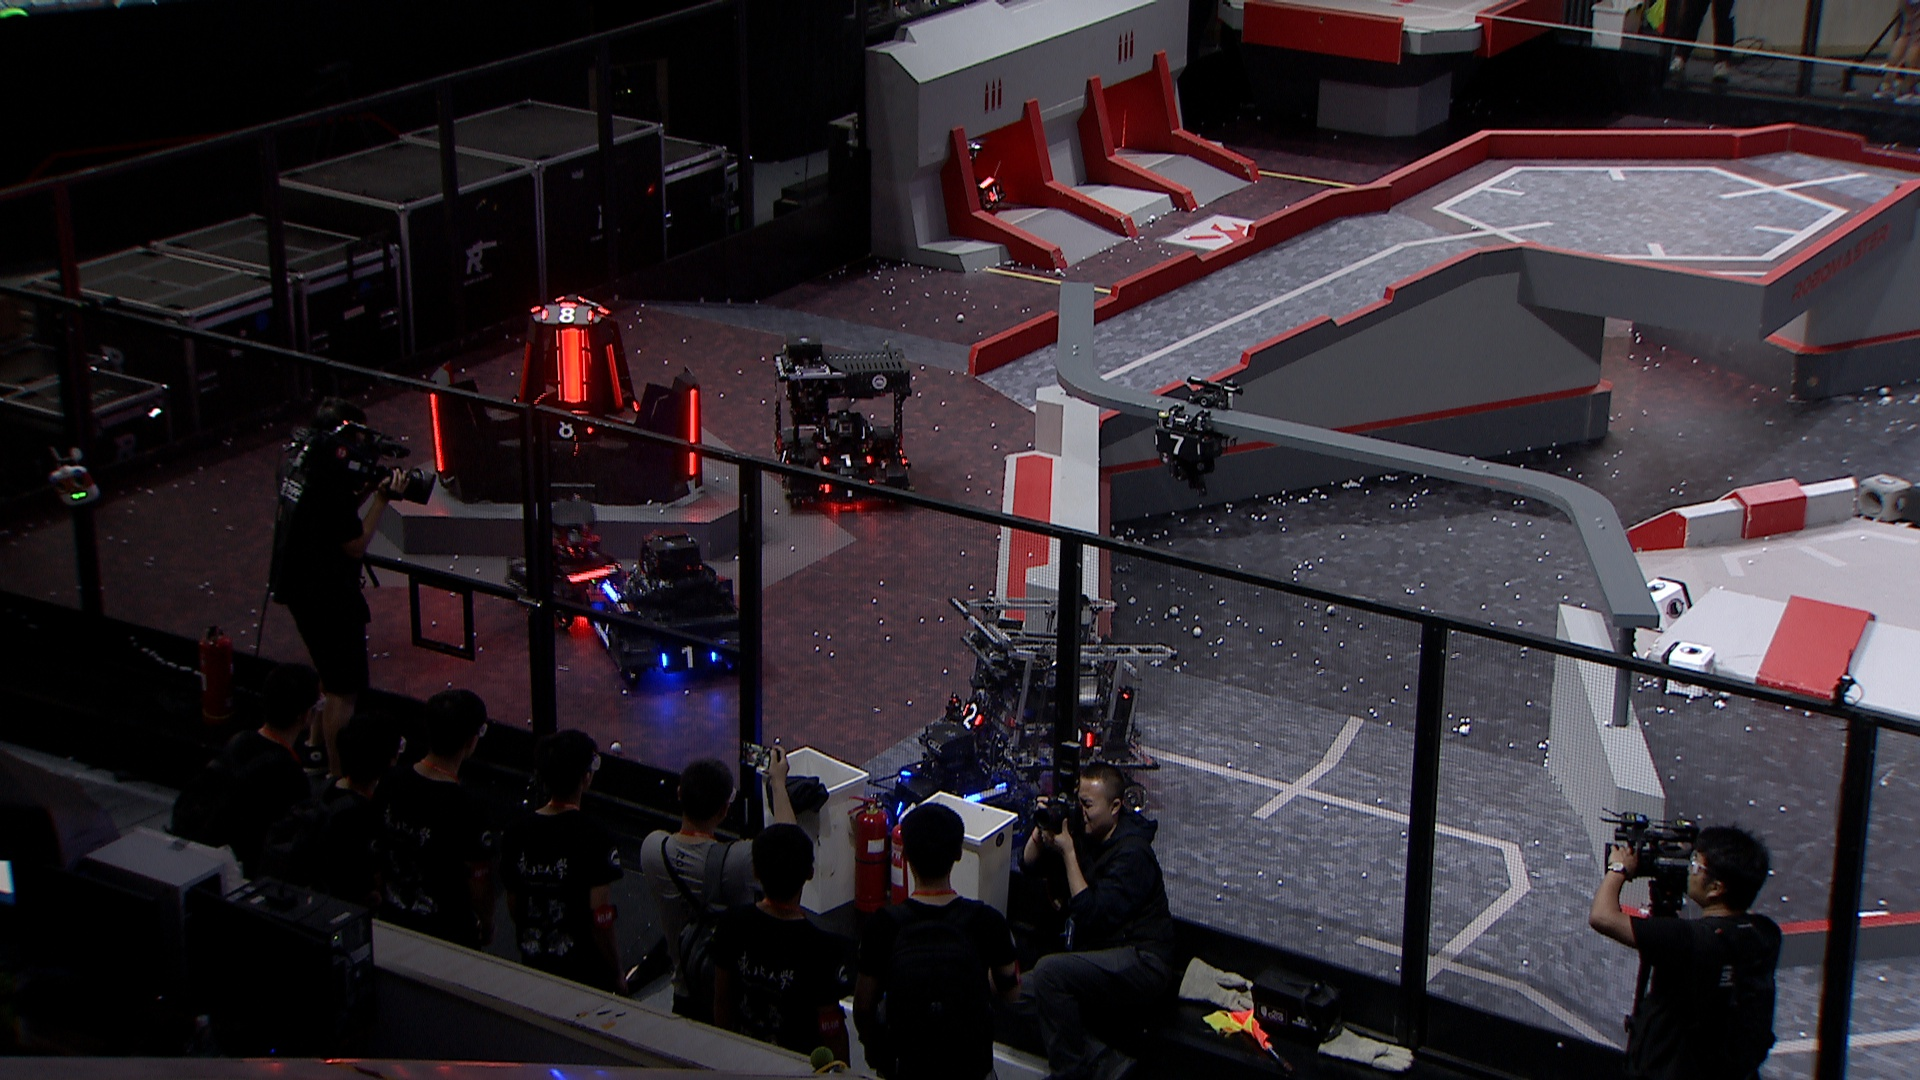armor: (553, 328, 589, 404), (425, 392, 448, 473), (659, 641, 721, 671), (684, 386, 703, 476), (603, 342, 626, 407), (537, 305, 595, 328), (822, 475, 880, 498), (1153, 433, 1204, 458), (514, 342, 534, 404), (546, 415, 593, 439), (589, 600, 618, 637), (957, 698, 986, 733), (820, 452, 876, 469), (984, 182, 1005, 204), (773, 448, 794, 469)
base: (422, 295, 707, 506)
car: (940, 588, 1174, 816), (578, 527, 767, 684), (864, 717, 1044, 872), (765, 330, 918, 508), (496, 495, 626, 632), (898, 136, 1005, 222)
watcher: (1150, 373, 1244, 496)
